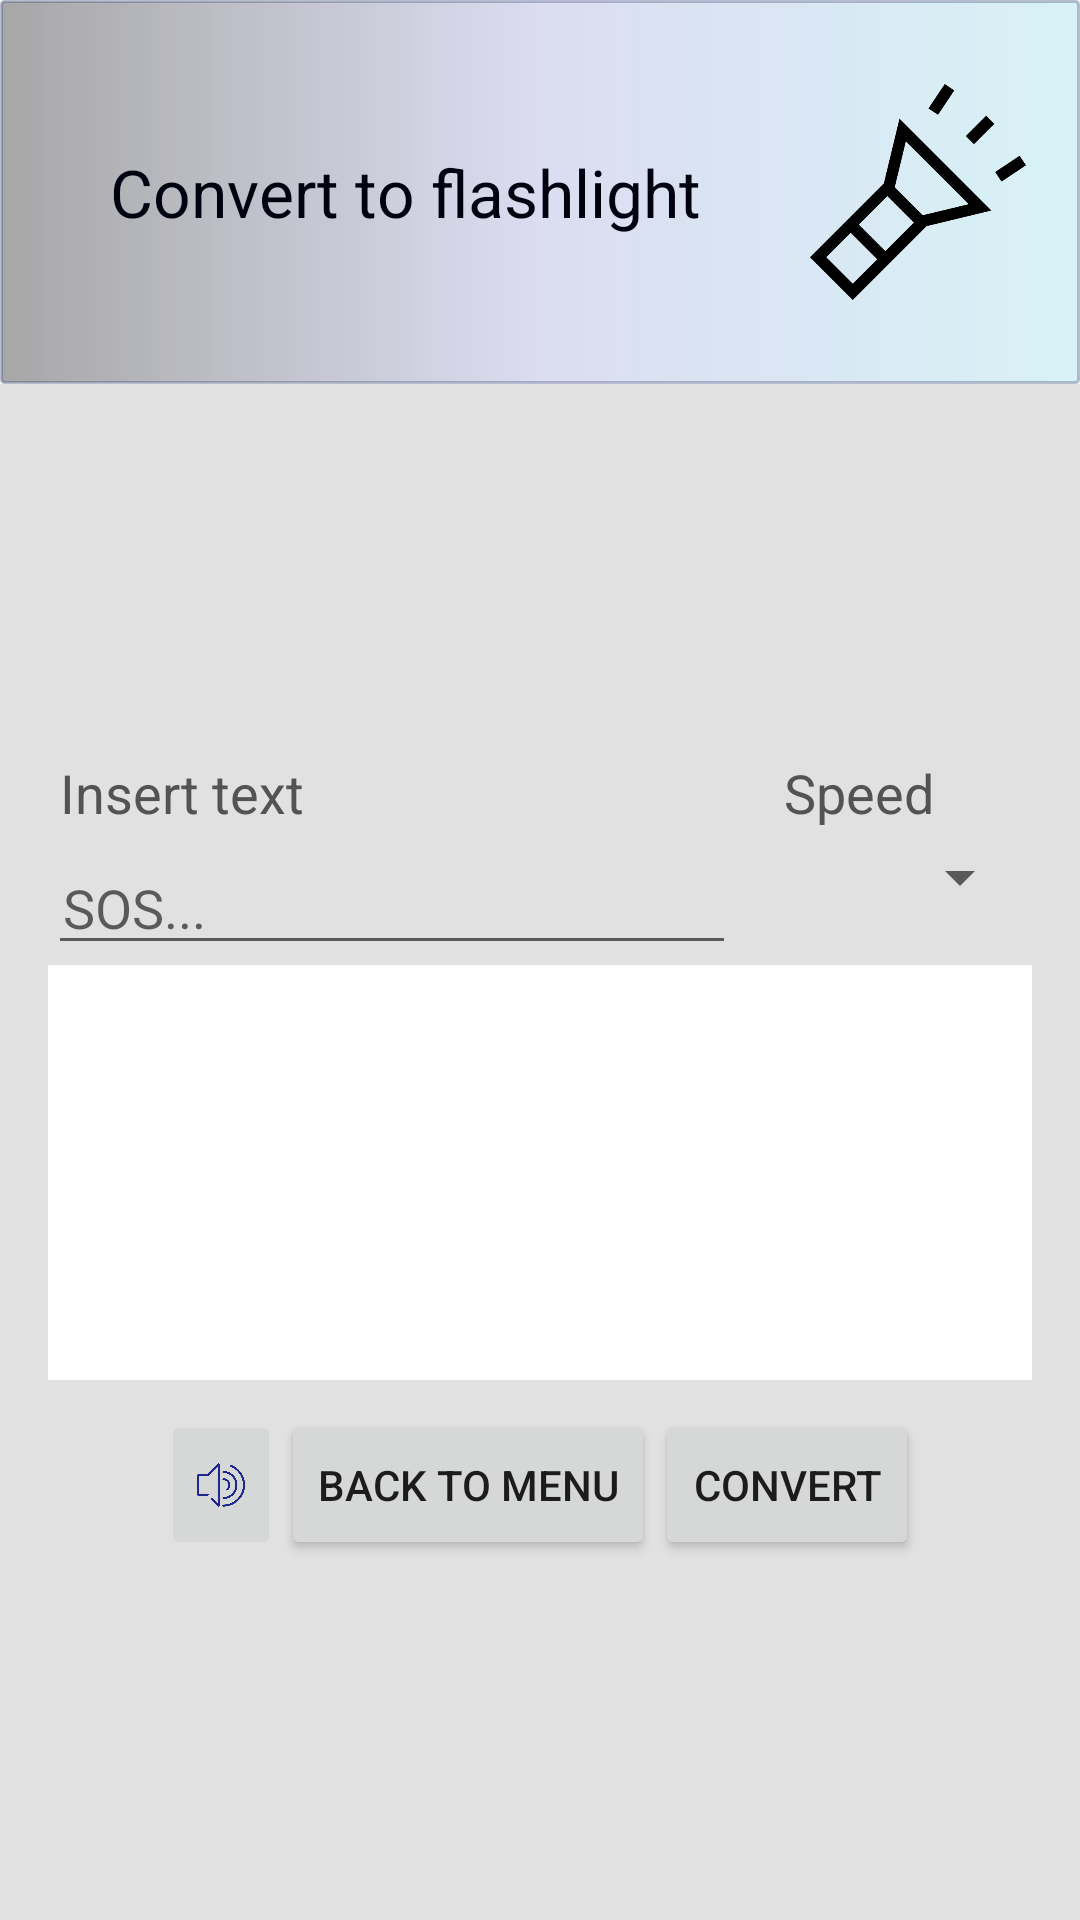

Screen size 1080*1920. Icon name, then its box in pixels as bbox=(x1, y1, x2, y2):
sound on: bbox=(173, 1428, 269, 1542)
